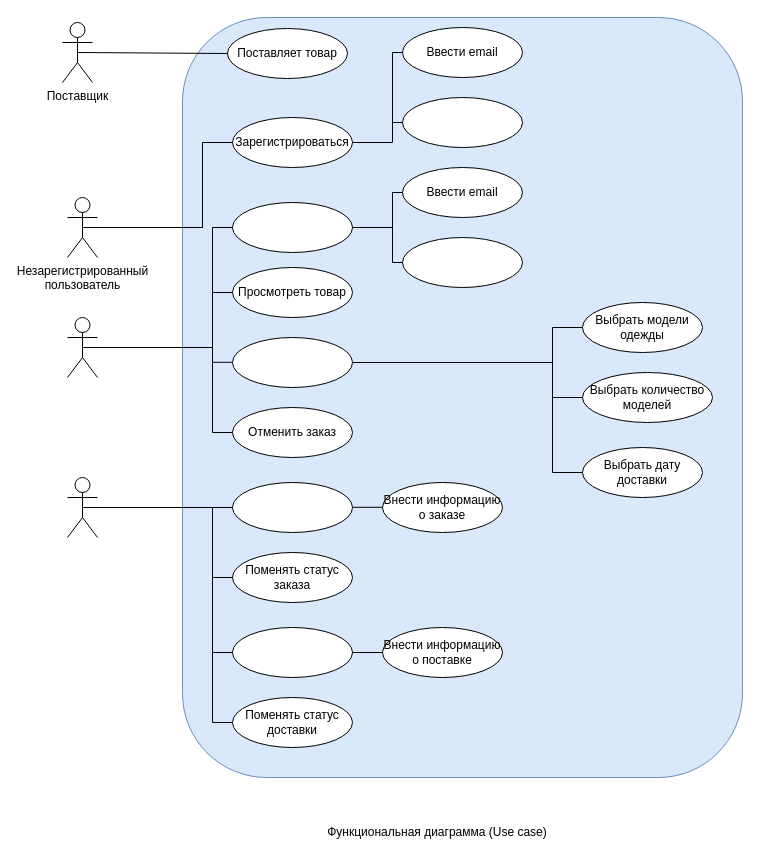
Image size: 760x865. Some labels were removed from this diagram. Each missing label, with the centre of its shape:
"Авторизоваться в системе" goes at [292,227].
"Ввести пароль" goes at [462,262].
"Зарегистрированный пользователь" goes at [82,347].
"Посмотреть информацию о доставке" goes at [292,652].
"Посмотреть информацию о заказе" goes at [292,507].
"Придумать пароль" goes at [462,122].
"Сделать заказ" goes at [292,362].
"Сотрудник" goes at [82,507].
